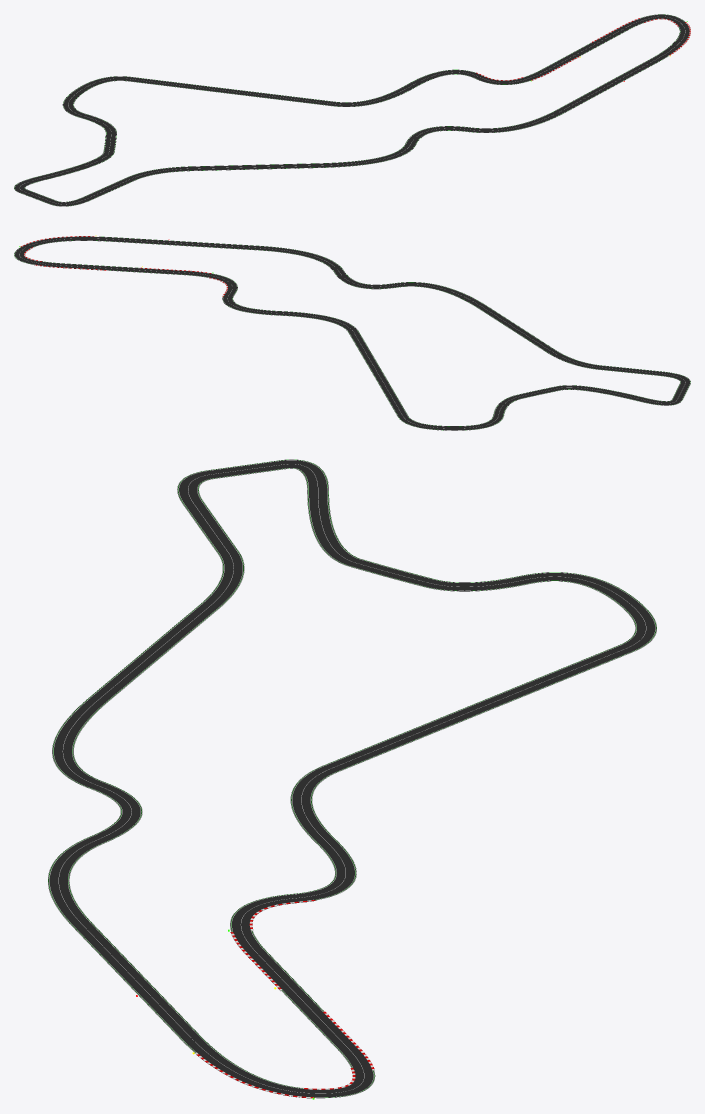
The model's file is Spa.Full.short.1c.export.glb.
The picture shows the model from 3 angles, top to bottom: view 1: azimuth 30°, elevation 25°; view 2: azimuth 150°, elevation 25°; view 3: azimuth 270°, elevation 25°; orthographic projection. The views are drawn at different scales.
Visible parts, largest first — view 1: Track; view 2: Track; view 3: Track.
Boxes of the visible parts, x1,y1,x2,y2 form: Track: (14,14,689,206); Track: (14,236,690,430); Track: (48,459,656,1098).
Bounding box in the file's own units: 1041 × 1 × 419.
